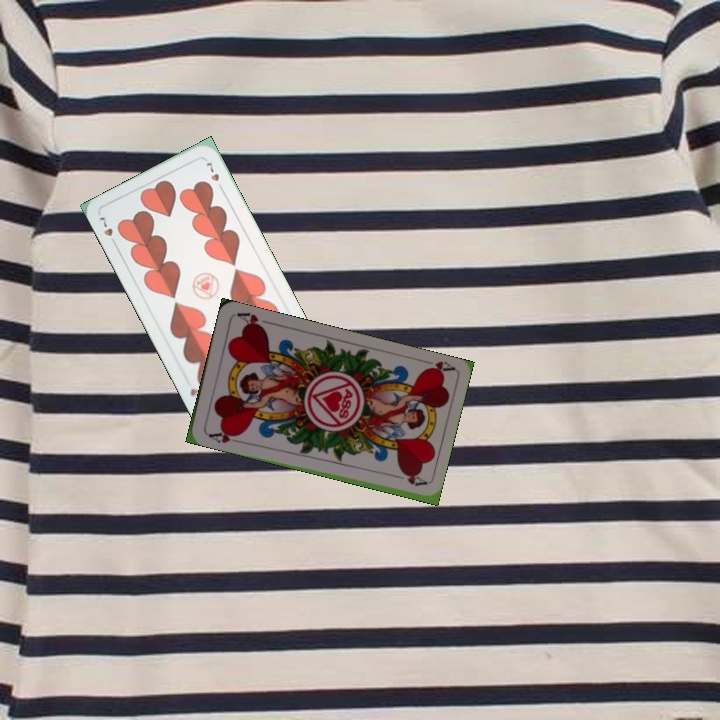H7: (94, 213, 120, 249)
HA: (416, 357, 456, 378), (203, 426, 243, 446)
